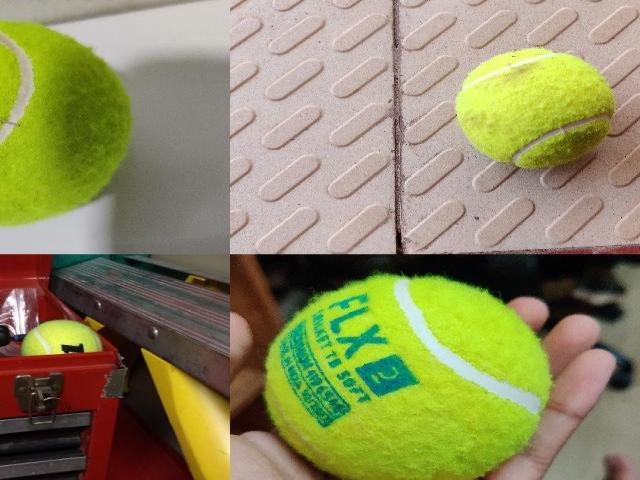tennis-ball: (265, 277, 550, 479), (0, 19, 133, 228), (454, 48, 614, 168), (20, 320, 104, 356)
